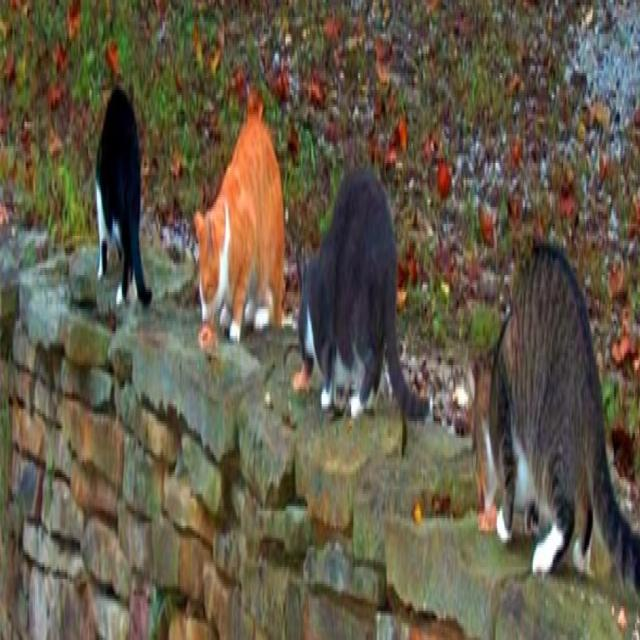cat: (475, 246, 640, 588), (300, 172, 425, 418), (195, 93, 284, 342), (96, 93, 151, 307)
